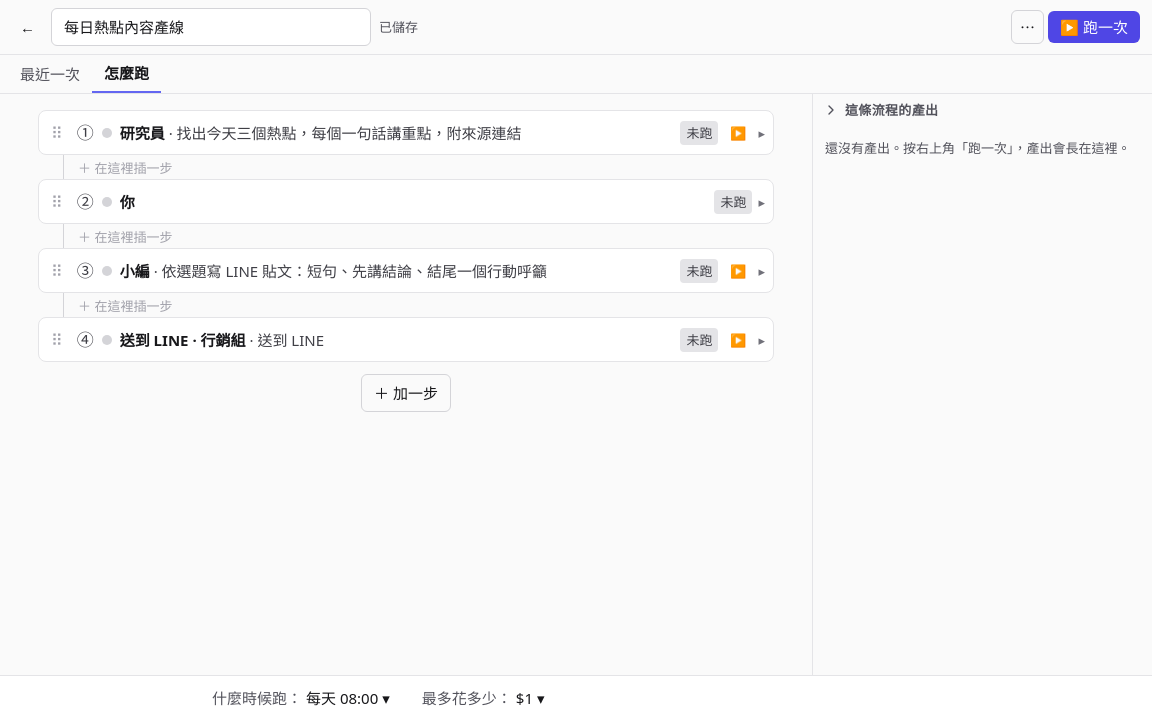
Scenario: 最近一次 › 沒跑過的流程：空狀態＋「現在跑一次」，跑起來切到最近一次
Expected: the element with test id "stations-view" is shown, left=22, top=94, right=790, bottom=428
Click the tab with test id "tab-last" at (50, 74), box left=8, top=56, right=92, bottom=92
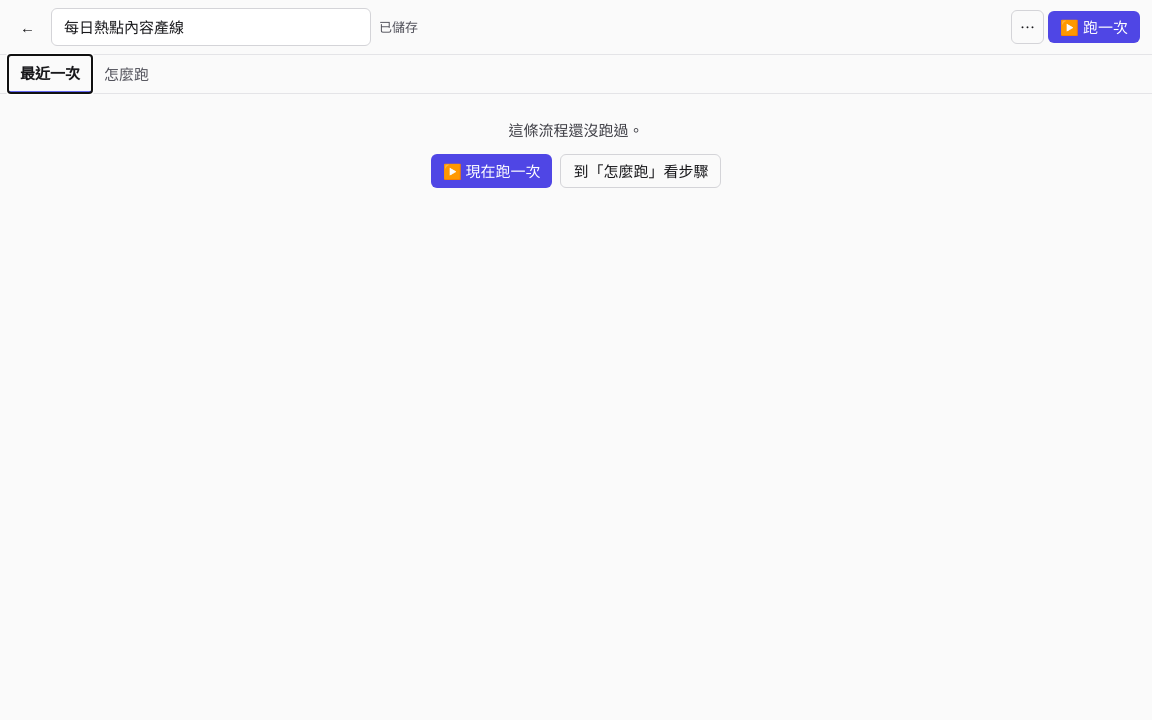
Now the element with test id "last-run-empty" shows "還沒跑過", box left=508, top=120, right=644, bottom=140
Click the button with test id "wf-run" at (1094, 27), box left=1048, top=11, right=1140, bottom=43
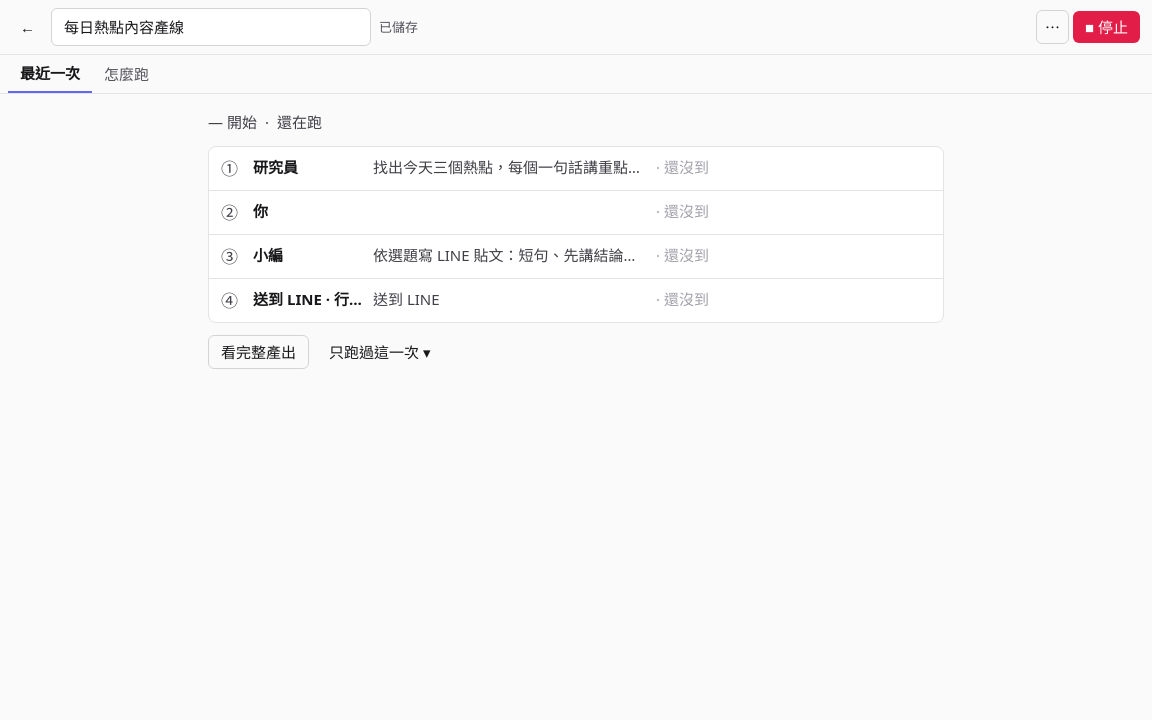
Now the element with test id "last-run-view" is shown, box left=192, top=94, right=960, bottom=385
Now the element with test id "last-status-n1" shows "還沒到", box left=664, top=157, right=709, bottom=177
